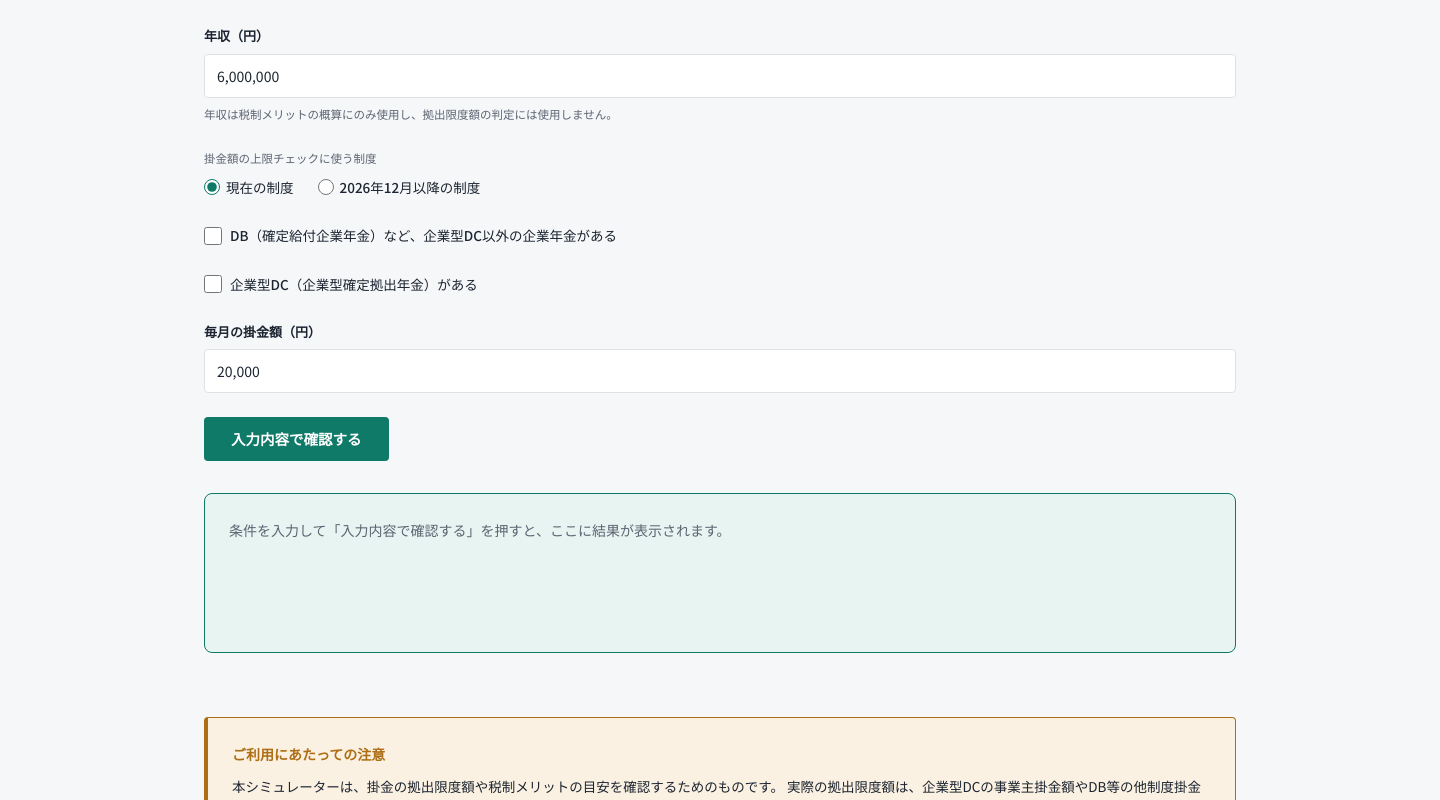
it: ContributionSimulatorPage › 既存の計算ロジックがそのまま移植されており、入力して送信すると結果が表示される
The image size is (1440, 800).
(page scrolled)
What coordinates should you click on to do the following:
click the button "入力内容で確認する"
I would click on:
 (296, 439)
Its box is [204,417,388,461].
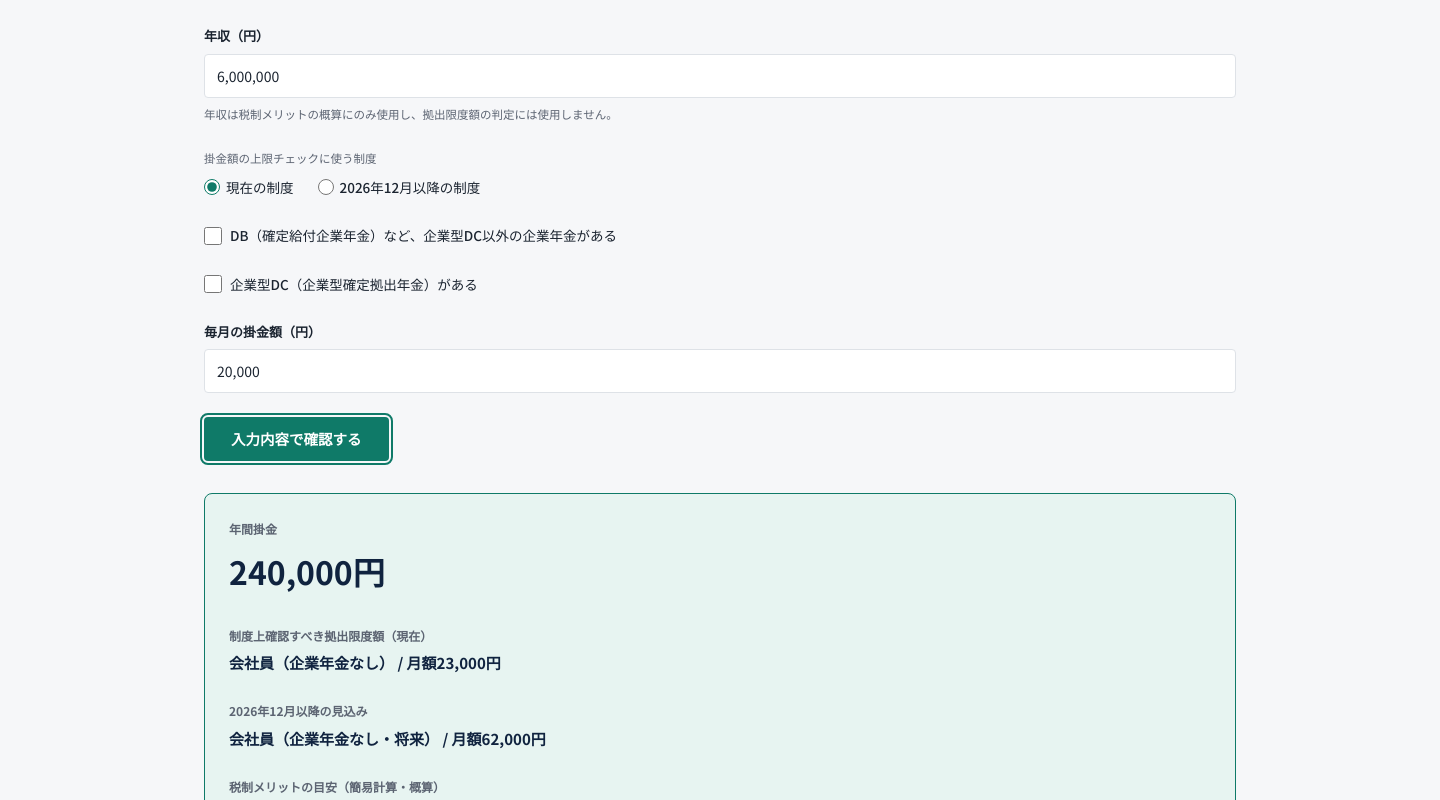
Result: the text "240,000円" is shown at [229,548,385,594]
Result: the text "会社員（企業年金なし） / 月額23,000円" is shown at [229,652,501,673]
